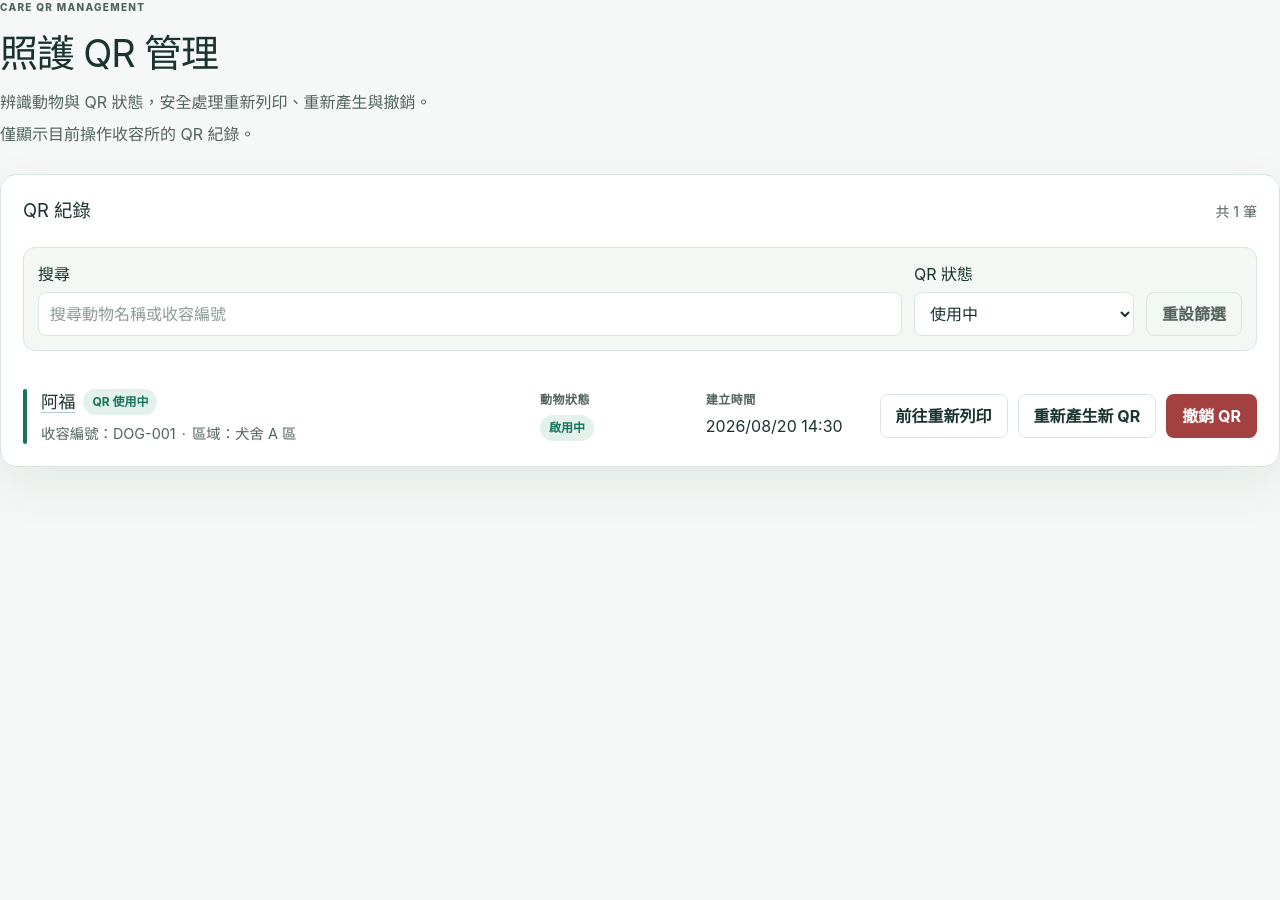
Test: animal-aware care QR management list › reconciles an emptied active-filter page after revoke
This screenshot has width=1280, height=900.
Select "使用中" in the dropdown labelled "QR 狀態" at (1024, 314), box x1=914 y1=292 x2=1134 y2=336
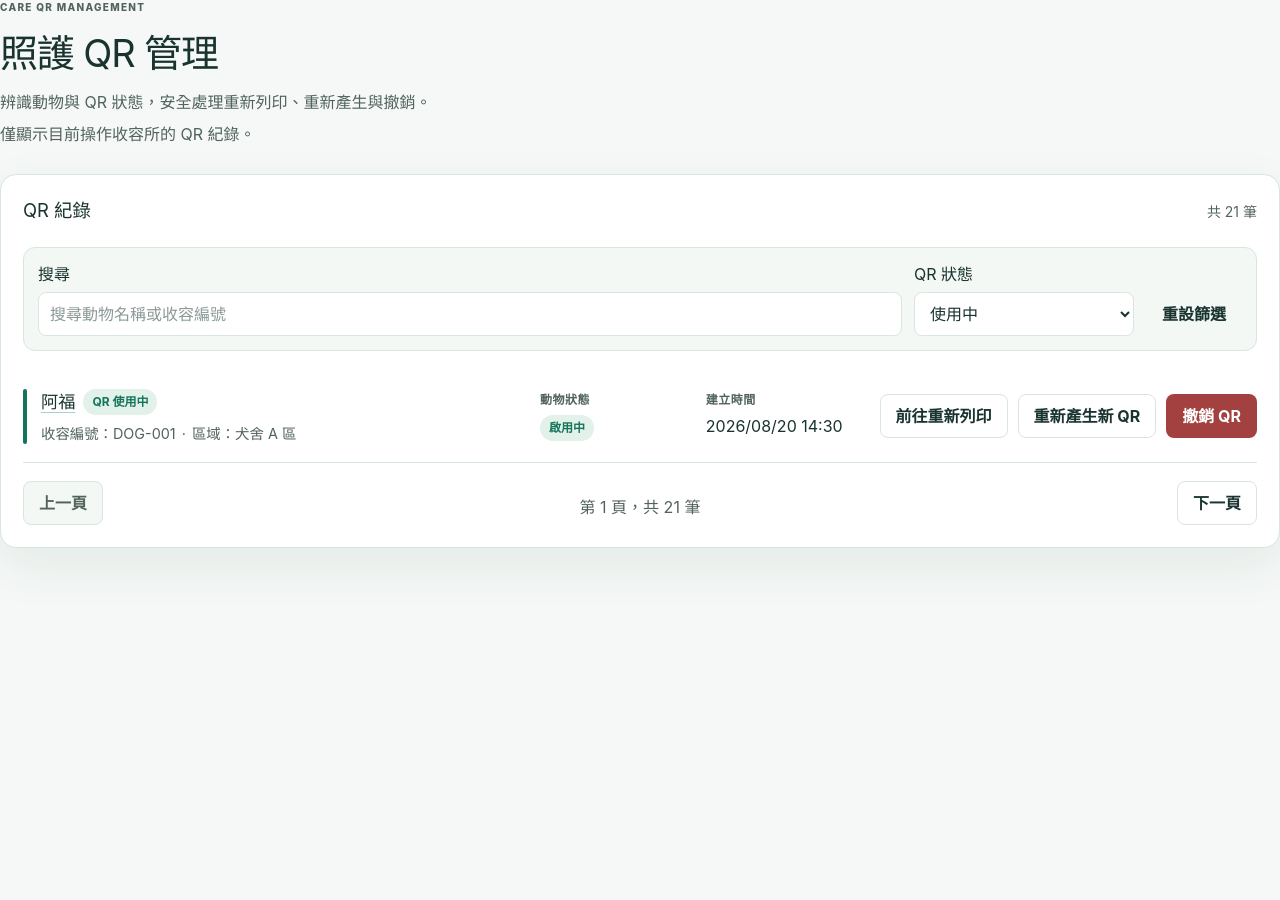
Click the button "下一頁" at (1217, 503), box x1=1177 y1=481 x2=1257 y2=525
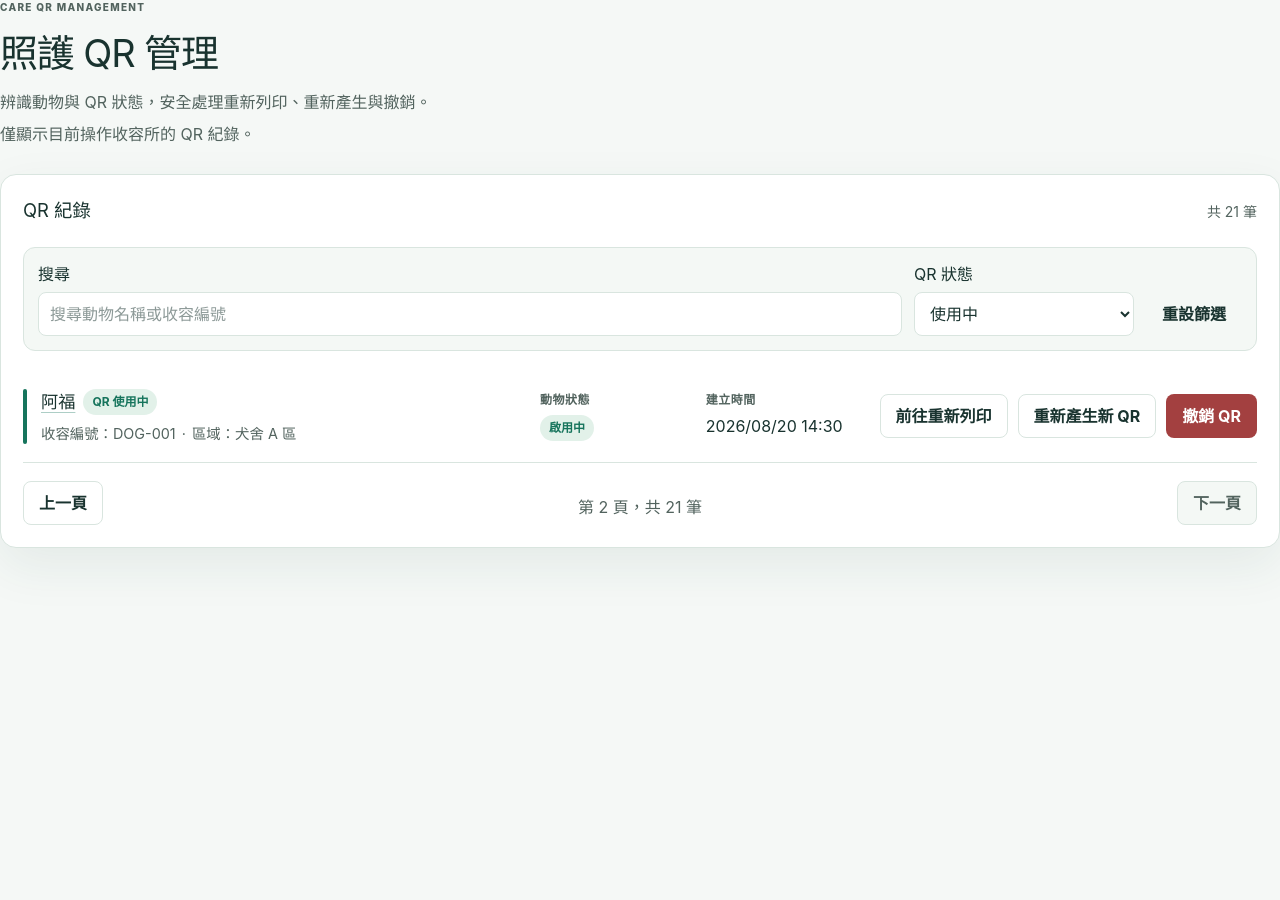
Click the button "撤銷 QR" at (1212, 416), box x1=1166 y1=394 x2=1257 y2=438
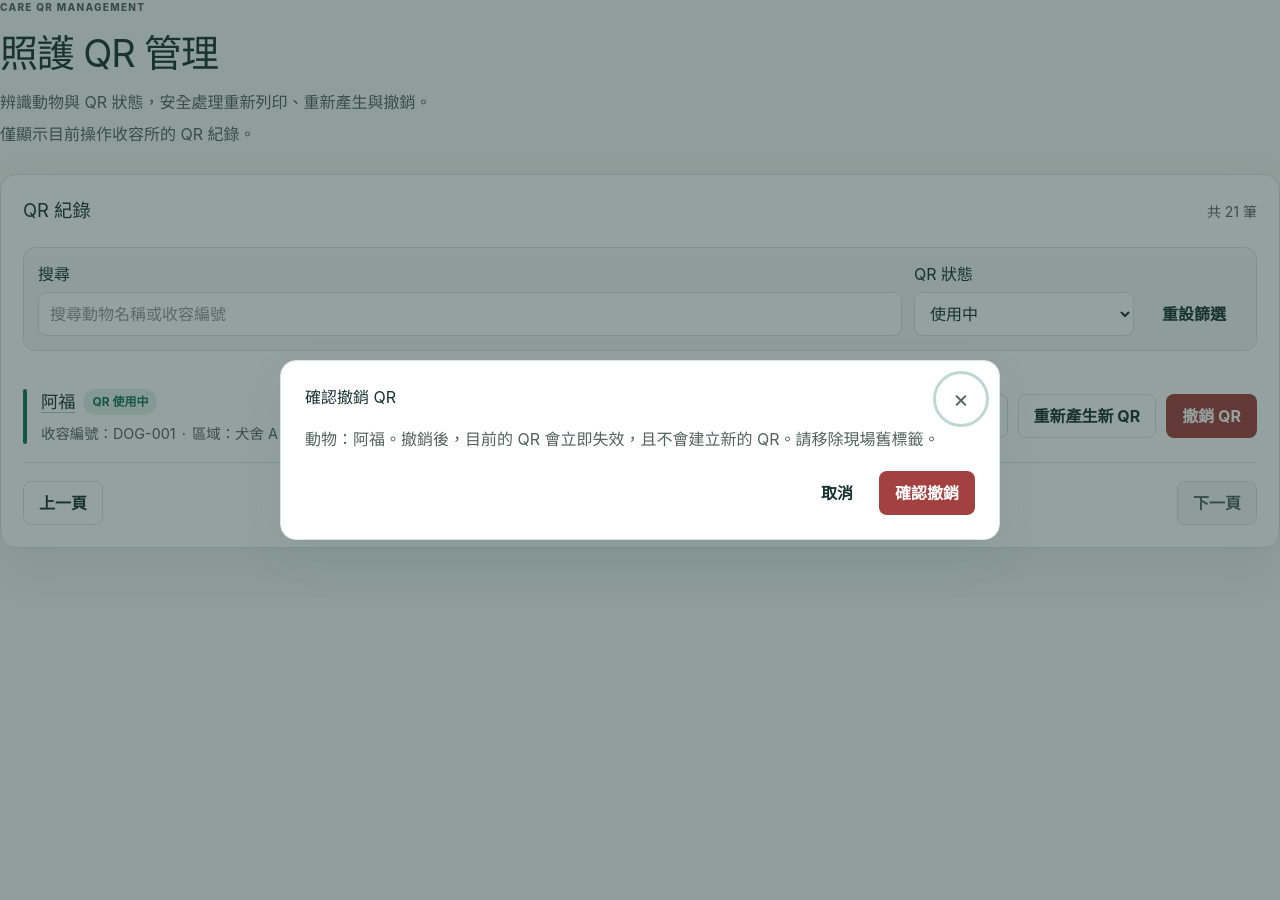
Click the button "確認撤銷" at (927, 493), box x1=879 y1=471 x2=975 y2=515
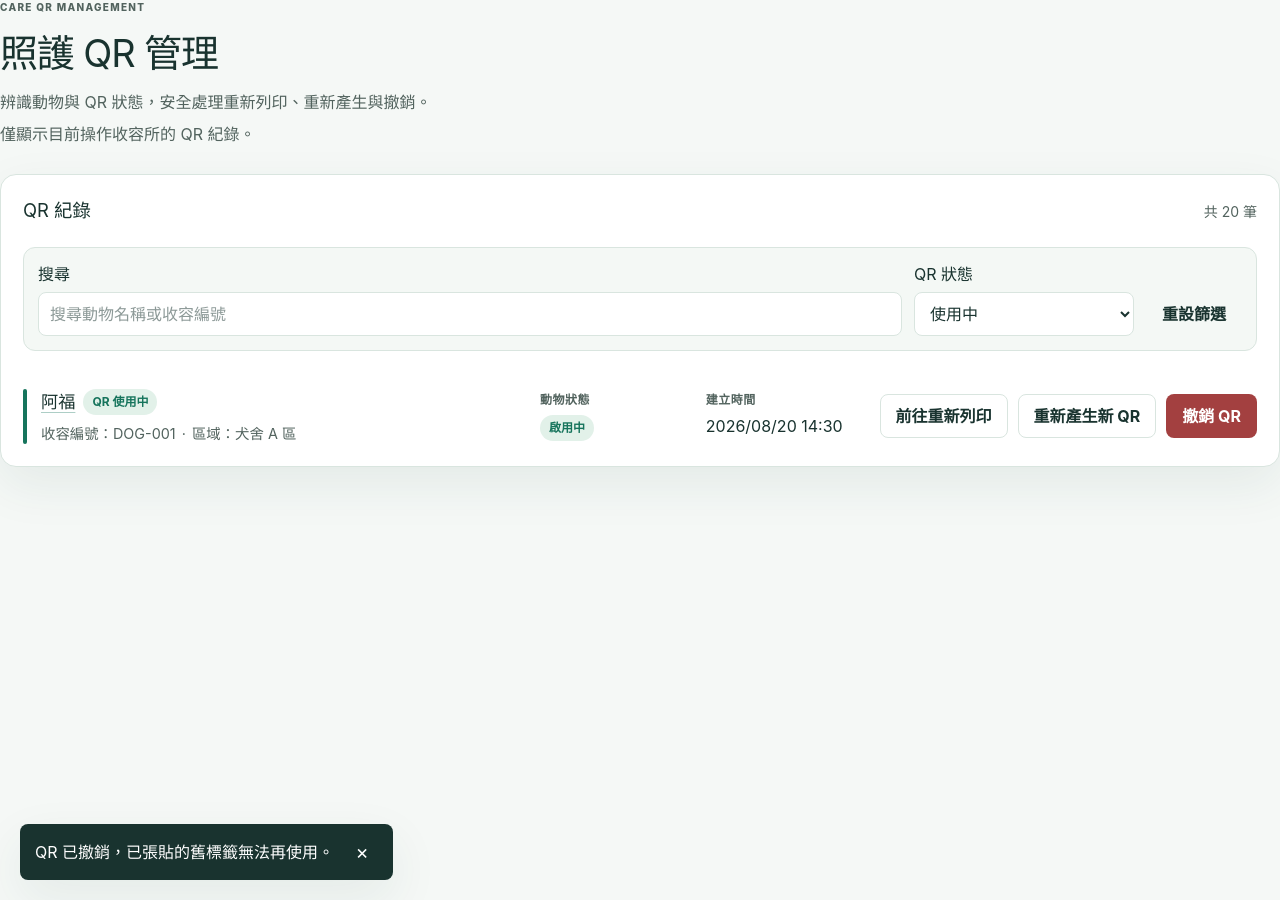
Expected: the text "共 20 筆" is shown, x1=1204 y1=201 x2=1257 y2=222
Expected: the text "上一頁" is gone
